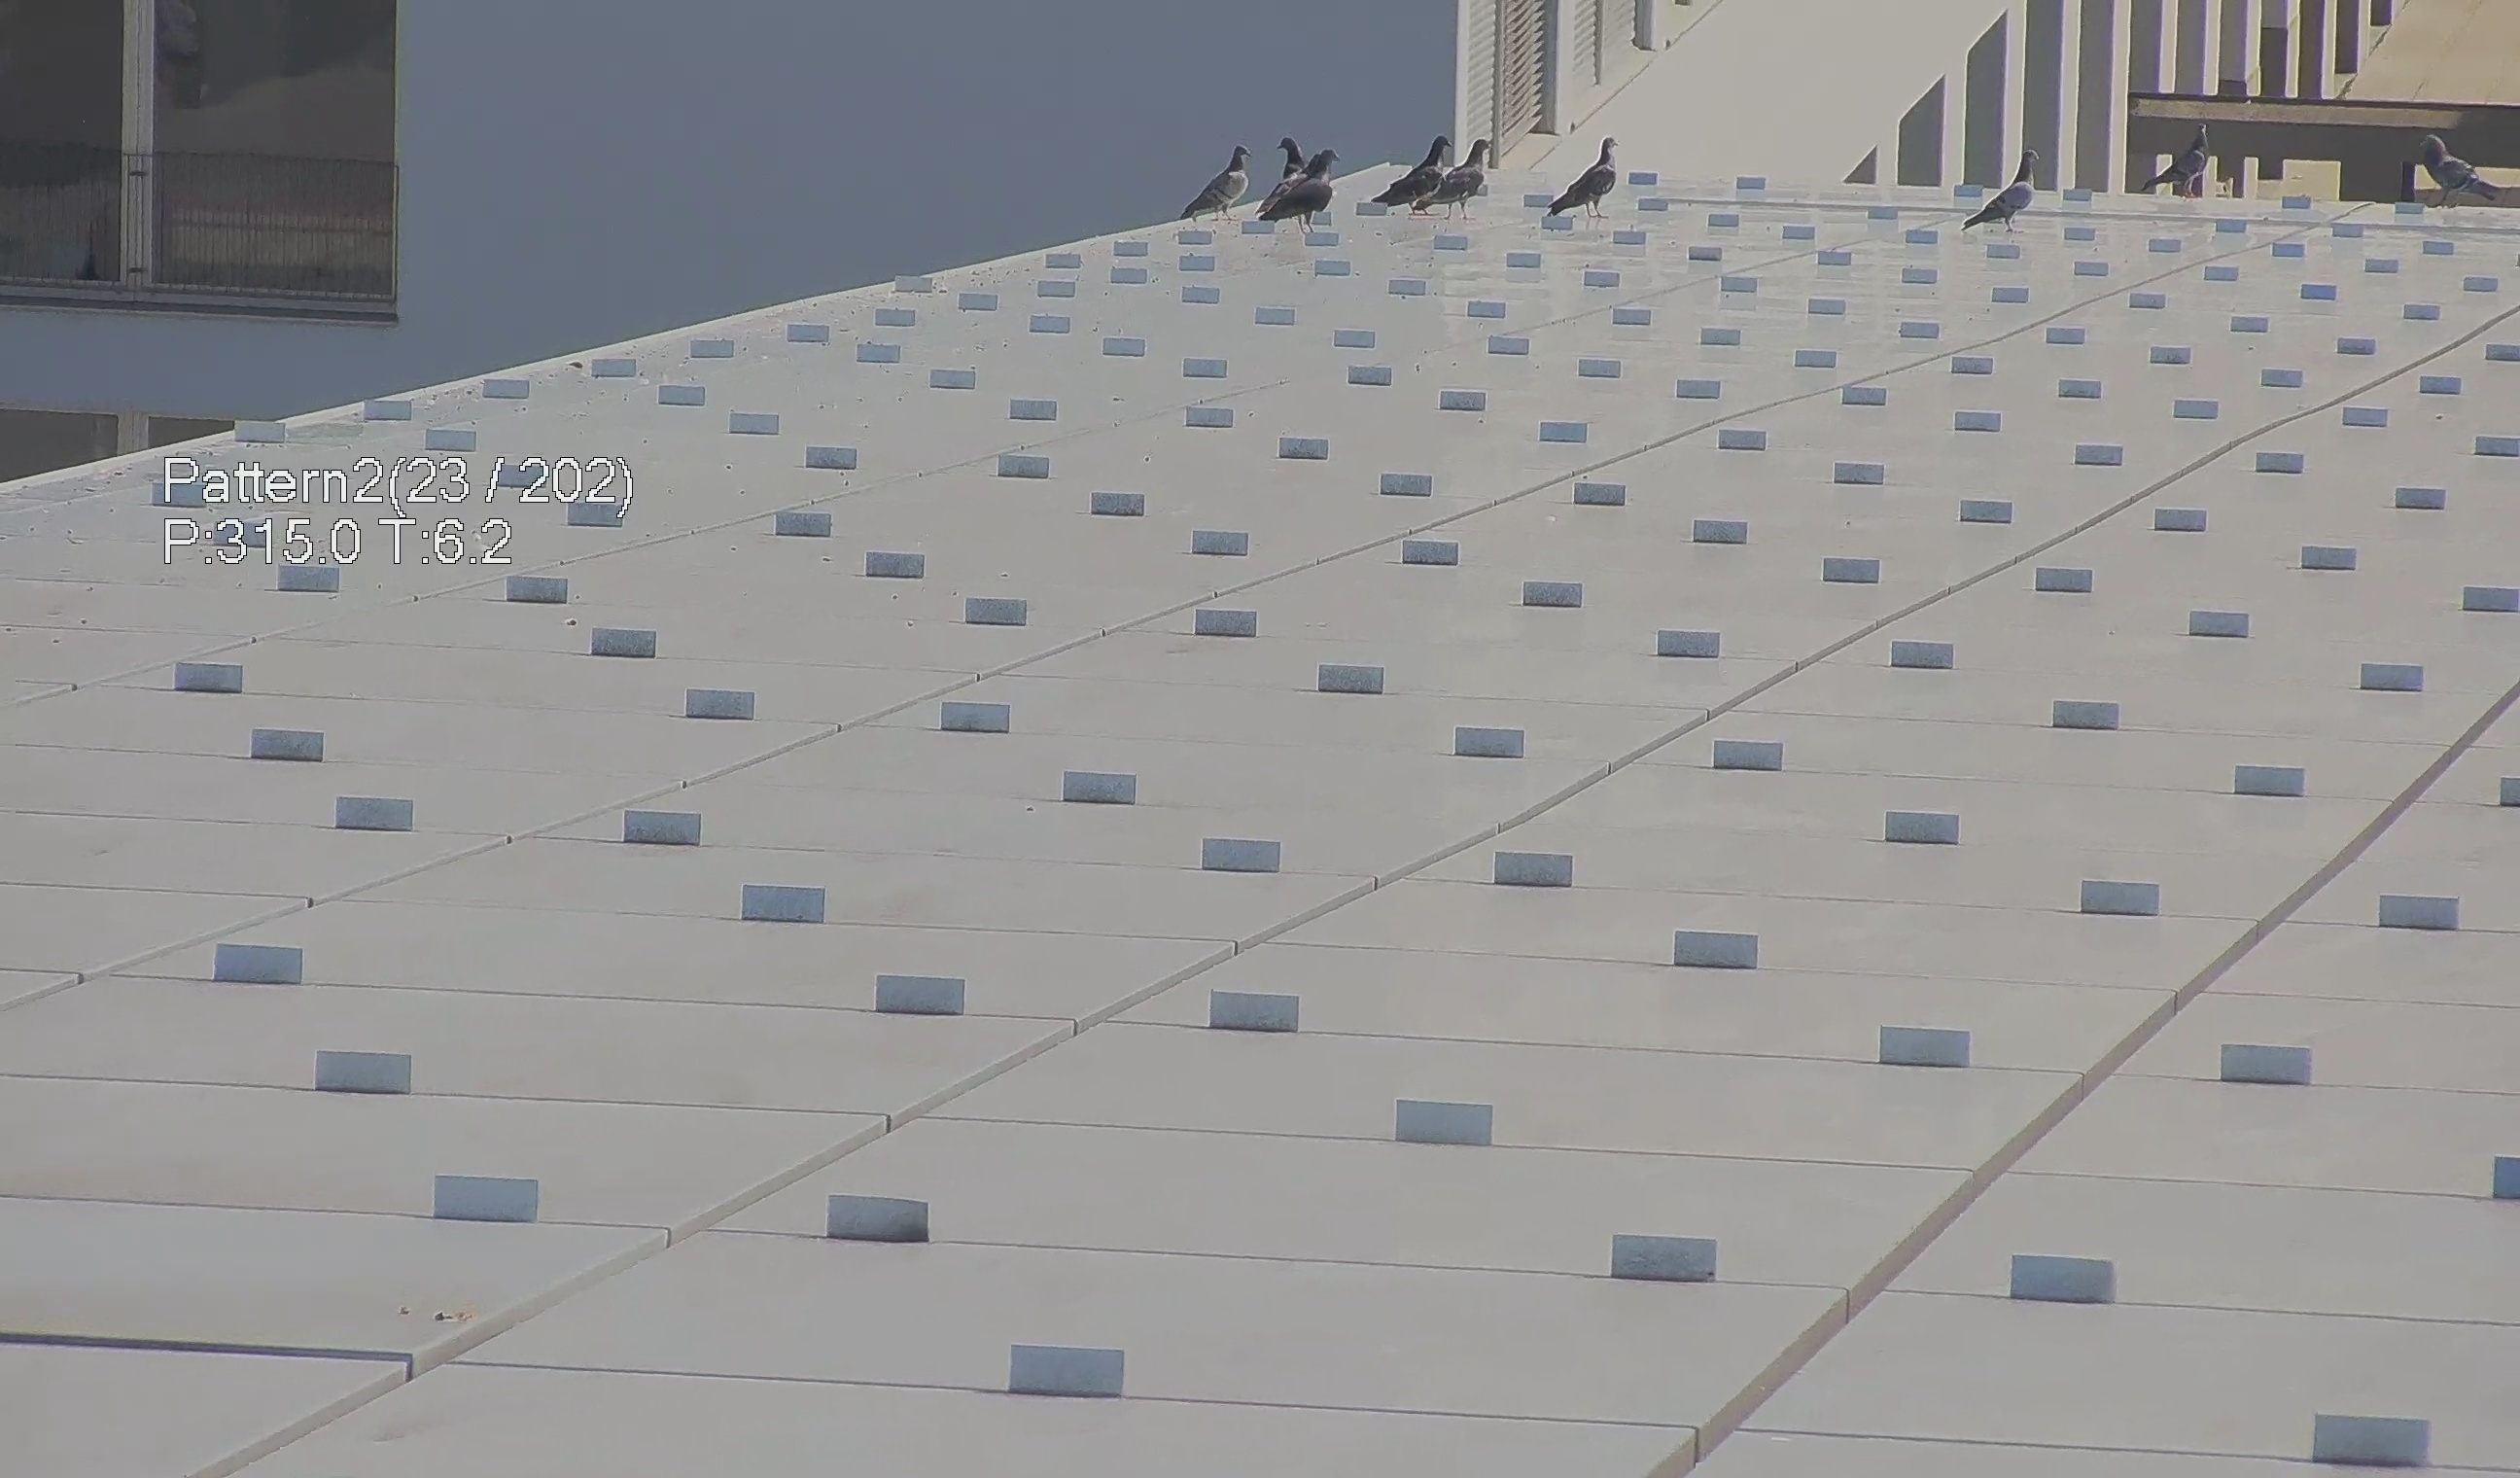Pigeon: (1530, 123, 1630, 222), (1247, 141, 1349, 232), (1968, 146, 2063, 238), (1370, 123, 1460, 218), (2409, 125, 2497, 215), (1175, 137, 1261, 222), (1417, 134, 1505, 216), (2140, 123, 2219, 204), (1268, 130, 1308, 179)
